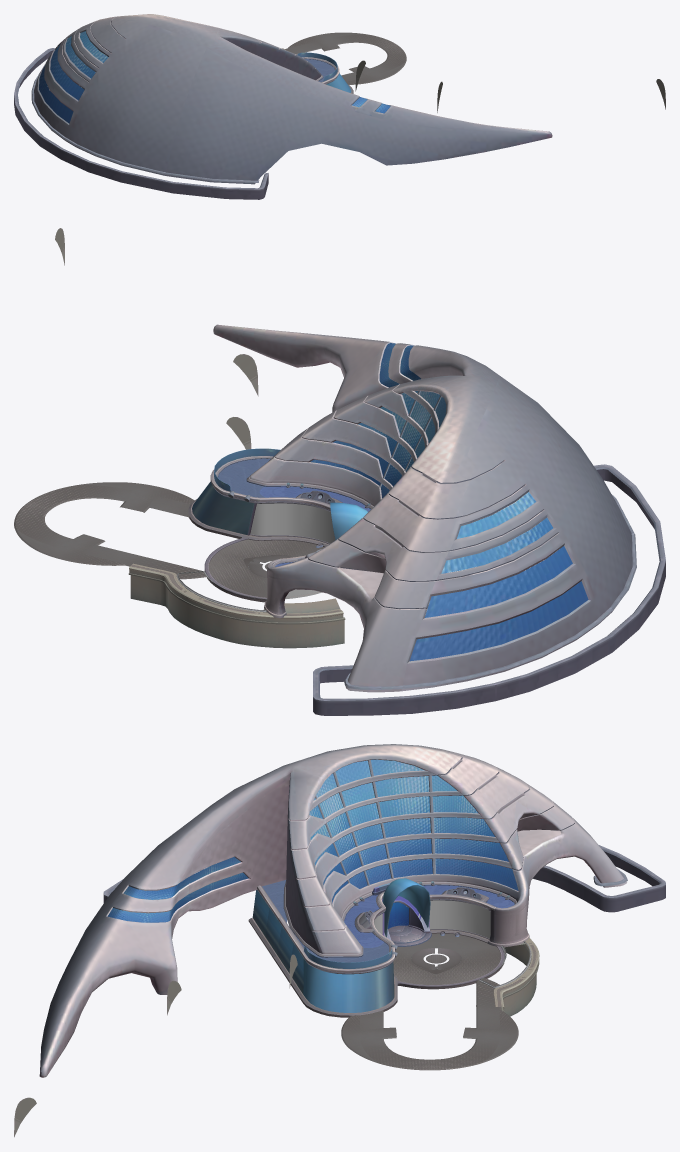
The model's file is pref_sm_beach_bk_pointmol_rightbuild01_lv1.fbx.
3 views of the same model, one above another, from view 1: azimuth 30°, elevation 25°; view 2: azimuth 150°, elevation 25°; view 3: azimuth 270°, elevation 25° (orthographic). The views are drawn at different scales.
Visible parts, largest first — view 1: sm_beach_bk_pointmol_rightbuild01a_lv1, sm_beach_bk_pointmol_rightbuild01d_lv1, sm_beach_bk_pointmol_rightbuild01b_lv1; view 2: sm_beach_bk_pointmol_rightbuild01a_lv1, sm_beach_bk_pointmol_rightbuild01b_lv1, sm_beach_bk_pointmol_rightbuild01d_lv1, sm_beach_bk_pointmol_rightbuild01h_lv1, sm_beach_bk_pointmol_rightbuild01g_lv1, sm_beach_bk_pointmol_rightbuild01c_lv1; view 3: sm_beach_bk_pointmol_rightbuild01a_lv1, sm_beach_bk_pointmol_rightbuild01b_lv1, sm_beach_bk_pointmol_rightbuild01d_lv1, sm_beach_bk_pointmol_rightbuild01c_lv1, sm_beach_bk_pointmol_rightbuild01h_lv1, sm_beach_bk_pointmol_rightbuild01g_lv1, sm_beach_bk_pointmol_rightbuild01e_lv1.
Boxes of the visible parts, box(x1,y1,x2,y2) form: sm_beach_bk_pointmol_rightbuild01a_lv1: box(14, 14, 552, 199); sm_beach_bk_pointmol_rightbuild01d_lv1: box(285, 32, 665, 112); sm_beach_bk_pointmol_rightbuild01b_lv1: box(39, 31, 390, 123); sm_beach_bk_pointmol_rightbuild01a_lv1: box(188, 324, 665, 715); sm_beach_bk_pointmol_rightbuild01b_lv1: box(214, 343, 588, 661); sm_beach_bk_pointmol_rightbuild01d_lv1: box(14, 228, 324, 597); sm_beach_bk_pointmol_rightbuild01h_lv1: box(128, 563, 345, 648); sm_beach_bk_pointmol_rightbuild01g_lv1: box(250, 503, 335, 599); sm_beach_bk_pointmol_rightbuild01c_lv1: box(192, 481, 254, 534); sm_beach_bk_pointmol_rightbuild01a_lv1: box(39, 744, 665, 1077); sm_beach_bk_pointmol_rightbuild01b_lv1: box(107, 759, 518, 968); sm_beach_bk_pointmol_rightbuild01d_lv1: box(14, 933, 518, 1137); sm_beach_bk_pointmol_rightbuild01c_lv1: box(252, 890, 394, 1012); sm_beach_bk_pointmol_rightbuild01h_lv1: box(479, 938, 539, 1016); sm_beach_bk_pointmol_rightbuild01g_lv1: box(374, 900, 490, 938); sm_beach_bk_pointmol_rightbuild01e_lv1: box(411, 948, 461, 969).
Bounding box in the file's own units: 79.53 × 19.32 × 64.81.
